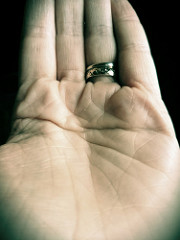palm: (25, 85, 178, 240)
